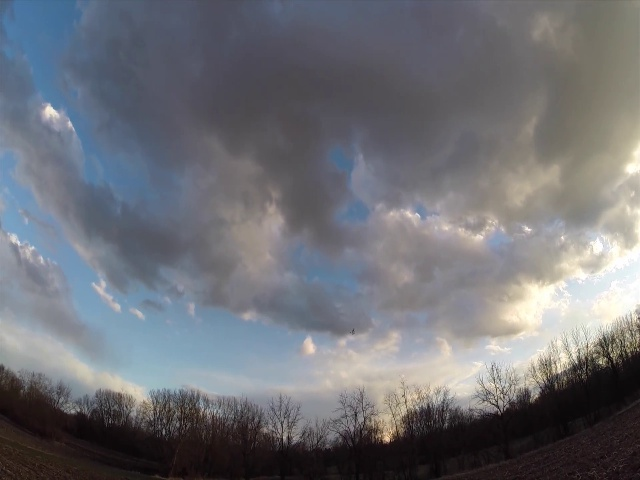drone: (348, 326, 356, 337)
